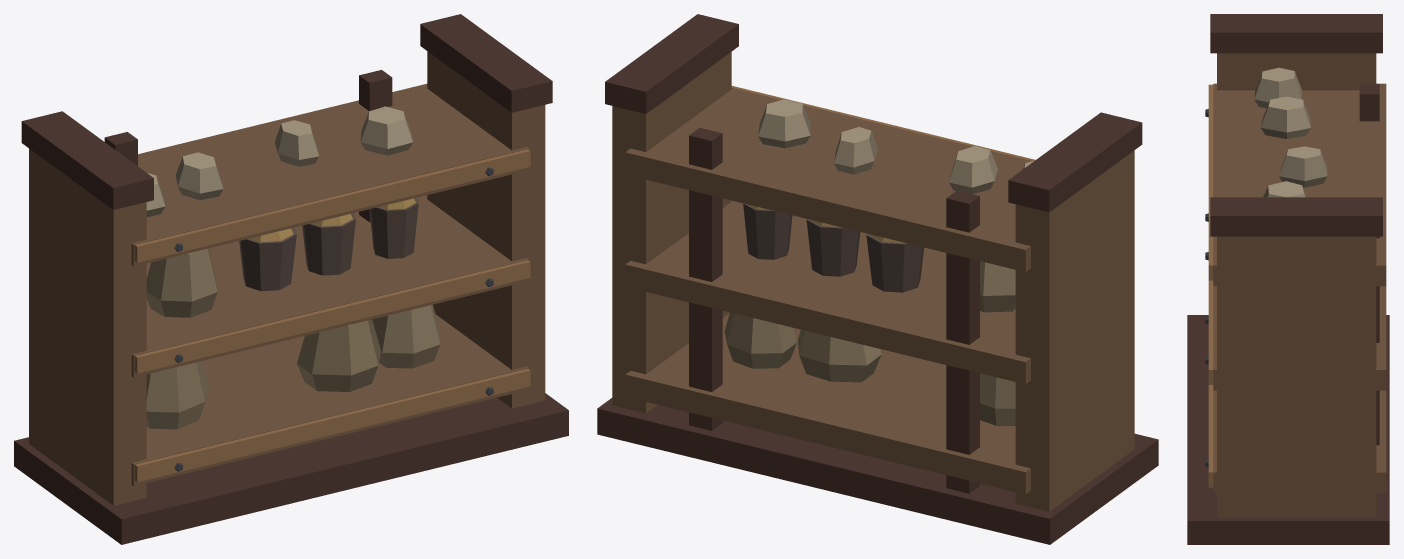
File: flour-shelves-stocked.glb
3 renders of one model, left to right at view 1: azimuth 30°, elevation 25°; view 2: azimuth 150°, elevation 25°; view 3: azimuth 270°, elevation 25°, orthographic. The views are drawn at different scales.
Parts seen in each view (by area): view 1: Flour shelves · stocked; view 2: Flour shelves · stocked; view 3: Flour shelves · stocked.
Boxes of the visible parts, left/top/right/bottom form: Flour shelves · stocked: left=14, top=14, right=568, bottom=544; Flour shelves · stocked: left=597, top=14, right=1158, bottom=544; Flour shelves · stocked: left=1187, top=14, right=1389, bottom=544.
Size of the model in its own units: 1.9 by 1.41 by 0.79.
